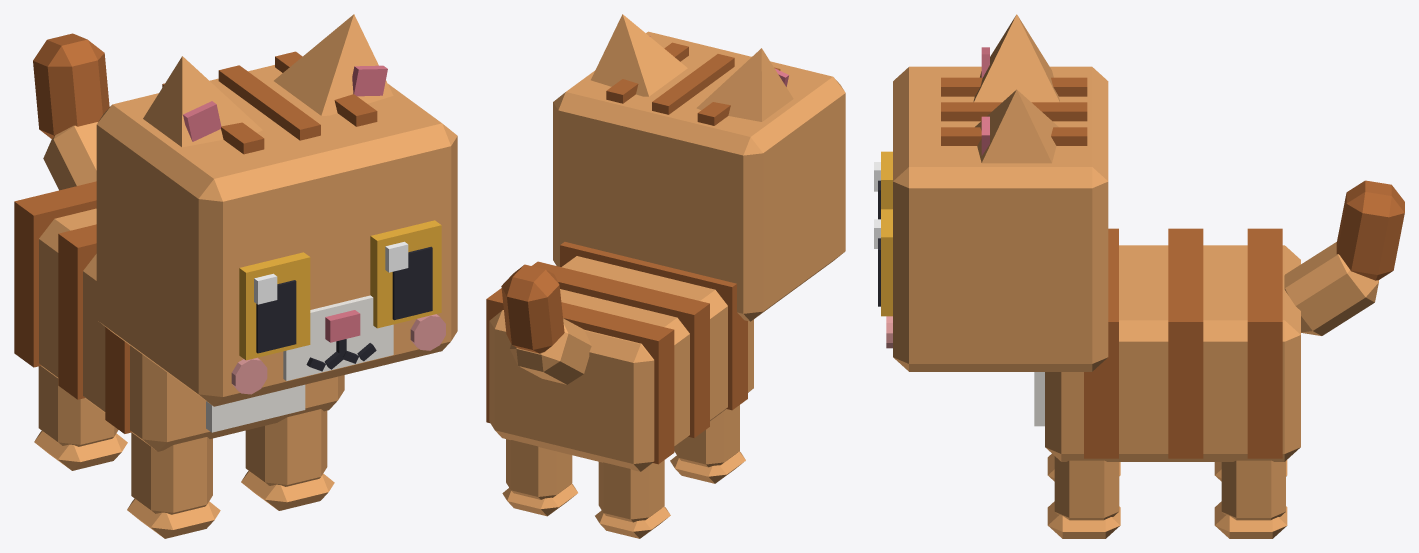
Rendered from CleanACat_Cat_Muffin.fbx.
The picture shows the model from 3 angles, left to right: view 1: azimuth 30°, elevation 25°; view 2: azimuth 150°, elevation 25°; view 3: azimuth 270°, elevation 25°; orthographic projection. The views are drawn at different scales.
Parts seen in each view (by area): view 1: CleanACat_Cat_Muffin_Head, CleanACat_Cat_Muffin_Body, CleanACat_Cat_Muffin_Tail, CleanACat_Cat_Muffin_LegF2, CleanACat_Cat_Muffin_LegF1, CleanACat_Cat_Muffin_Eye2, CleanACat_Cat_Muffin_Eye1, CleanACat_Cat_Muffin_EarL, CleanACat_Cat_Muffin_LegB2, CleanACat_Cat_Muffin_EarR; view 2: CleanACat_Cat_Muffin_Head, CleanACat_Cat_Muffin_Body, CleanACat_Cat_Muffin_Tail, CleanACat_Cat_Muffin_LegB2, CleanACat_Cat_Muffin_LegB1, CleanACat_Cat_Muffin_EarL, CleanACat_Cat_Muffin_EarR, CleanACat_Cat_Muffin_LegF2; view 3: CleanACat_Cat_Muffin_Head, CleanACat_Cat_Muffin_Body, CleanACat_Cat_Muffin_Tail, CleanACat_Cat_Muffin_LegF1, CleanACat_Cat_Muffin_LegB1, CleanACat_Cat_Muffin_EarR, CleanACat_Cat_Muffin_EarL, CleanACat_Cat_Muffin_Eye1, CleanACat_Cat_Muffin_Eye2.
Boxes of the visible parts, x1,y1,x2,y2 form: CleanACat_Cat_Muffin_Head: [96, 51, 457, 406]; CleanACat_Cat_Muffin_Body: [14, 181, 344, 451]; CleanACat_Cat_Muffin_Tail: [33, 33, 109, 190]; CleanACat_Cat_Muffin_LegF2: [127, 432, 220, 538]; CleanACat_Cat_Muffin_LegF1: [241, 409, 334, 510]; CleanACat_Cat_Muffin_Eye2: [239, 252, 310, 360]; CleanACat_Cat_Muffin_Eye1: [370, 220, 441, 328]; CleanACat_Cat_Muffin_EarL: [274, 14, 393, 115]; CleanACat_Cat_Muffin_LegB2: [34, 366, 127, 470]; CleanACat_Cat_Muffin_EarR: [143, 56, 262, 147]; CleanACat_Cat_Muffin_Head: [553, 31, 845, 321]; CleanACat_Cat_Muffin_Body: [486, 242, 753, 471]; CleanACat_Cat_Muffin_Tail: [501, 264, 591, 384]; CleanACat_Cat_Muffin_LegB2: [595, 460, 670, 538]; CleanACat_Cat_Muffin_LegB1: [502, 439, 577, 516]; CleanACat_Cat_Muffin_EarL: [591, 14, 687, 96]; CleanACat_Cat_Muffin_EarR: [696, 48, 793, 121]; CleanACat_Cat_Muffin_LegF2: [670, 405, 745, 483]; CleanACat_Cat_Muffin_Head: [886, 66, 1108, 371]; CleanACat_Cat_Muffin_Body: [1034, 228, 1300, 461]; CleanACat_Cat_Muffin_Tail: [1284, 180, 1404, 335]; CleanACat_Cat_Muffin_LegF1: [1047, 456, 1120, 538]; CleanACat_Cat_Muffin_LegB1: [1214, 460, 1287, 538]; CleanACat_Cat_Muffin_EarR: [973, 14, 1059, 102]; CleanACat_Cat_Muffin_EarL: [975, 89, 1058, 163]; CleanACat_Cat_Muffin_Eye1: [874, 209, 892, 316]; CleanACat_Cat_Muffin_Eye2: [874, 151, 892, 219].
Size of the model in its own units: 1 by 1.86 by 1.97.
1 material, 1 textured.
